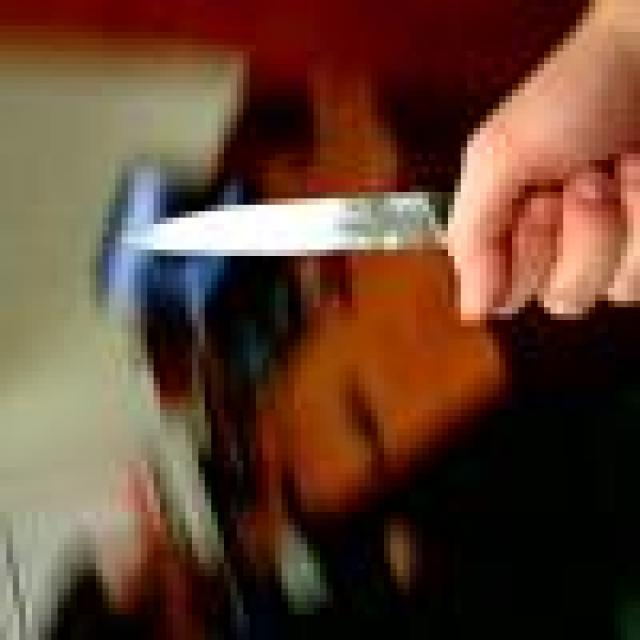knife: (127, 196, 446, 255)
